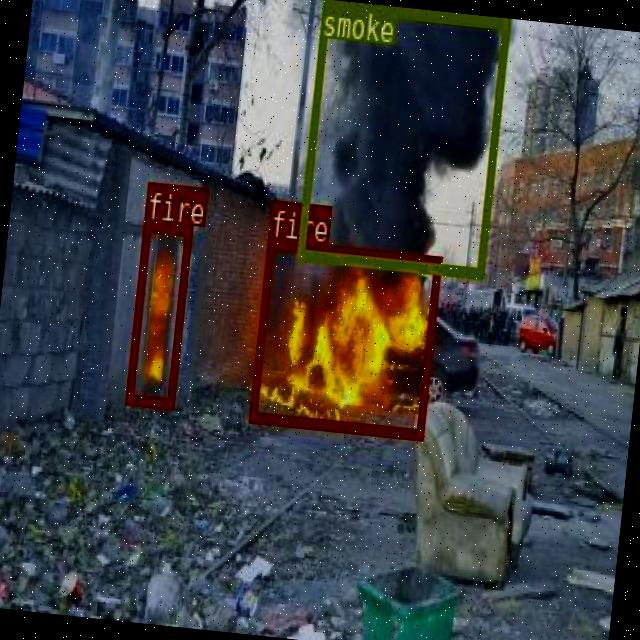fire: (248, 238, 441, 437), (124, 220, 191, 406)
smoke: (295, 0, 508, 277)
